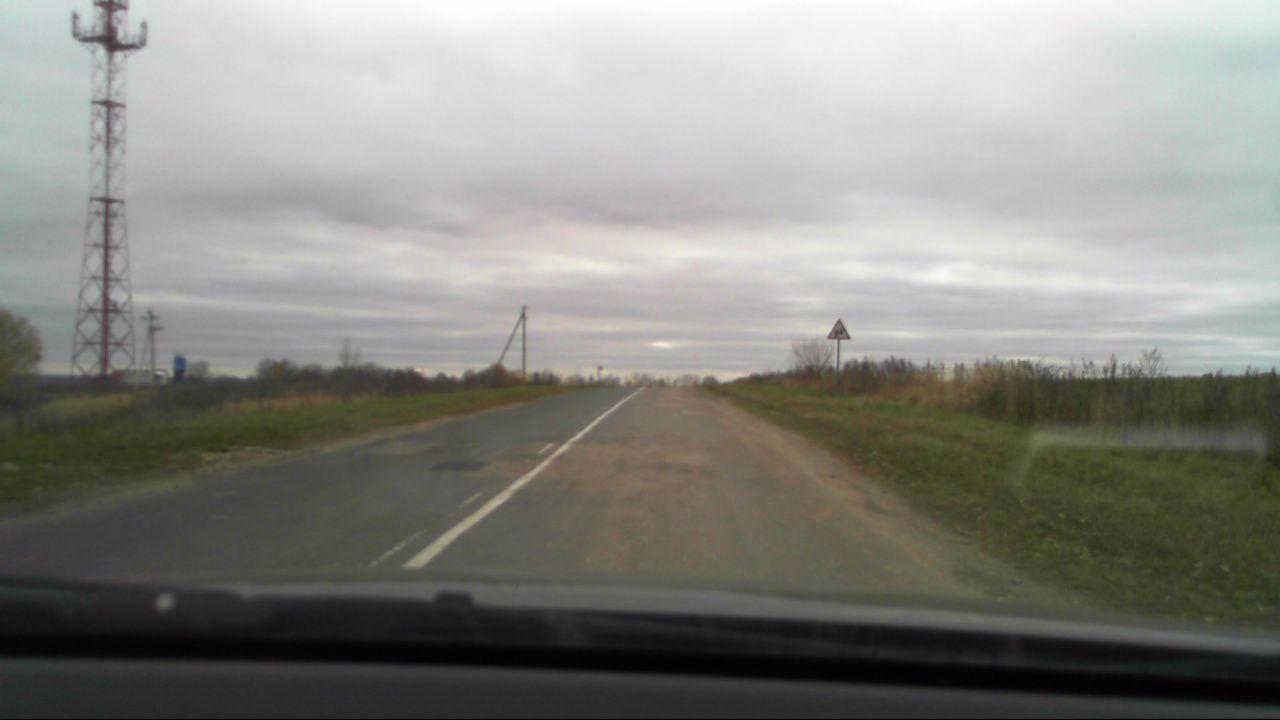1_12_1: (826, 316, 852, 343)
